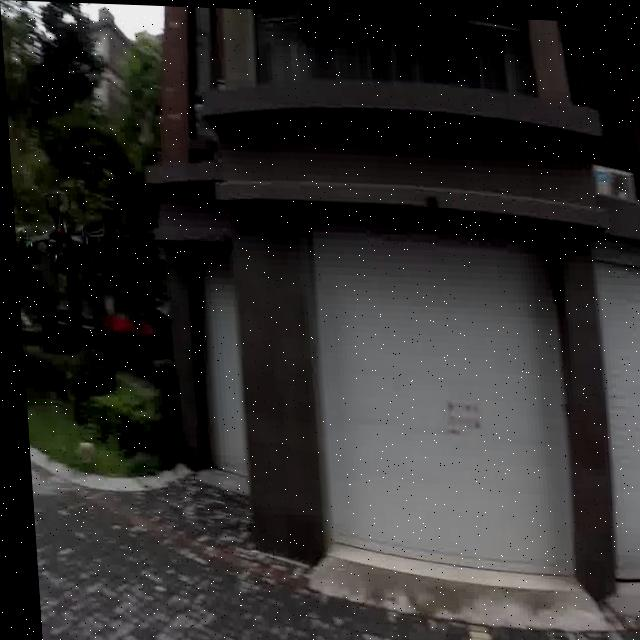drone: (13, 183, 110, 296)
